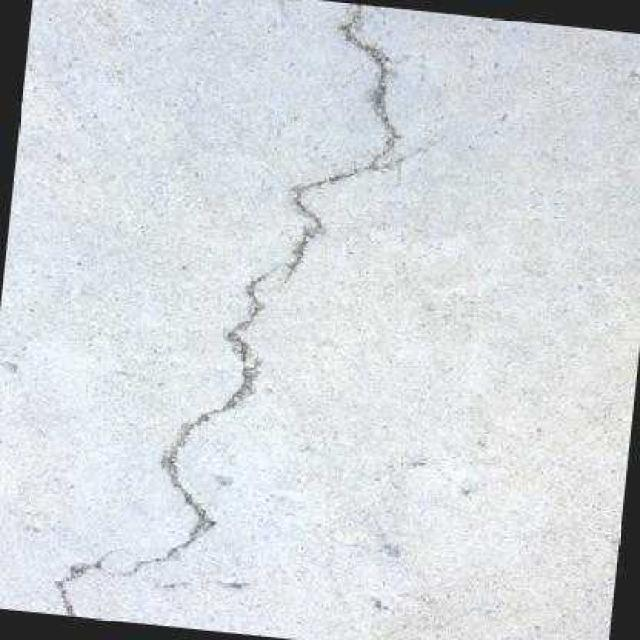D00: (50, 1, 402, 616)
